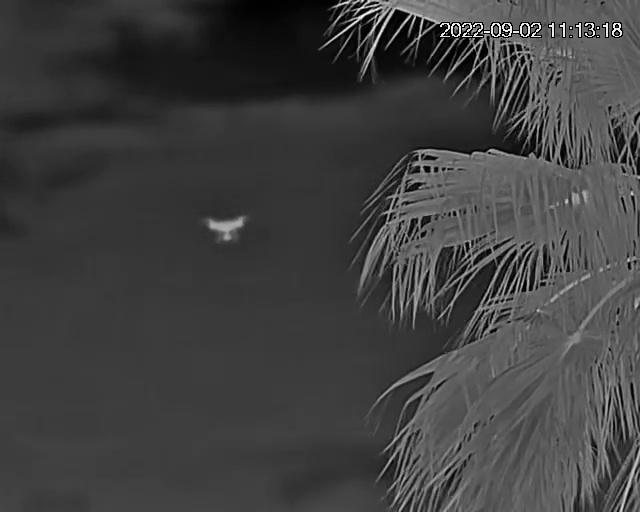DJI-Phantom: (200, 217, 253, 245)
